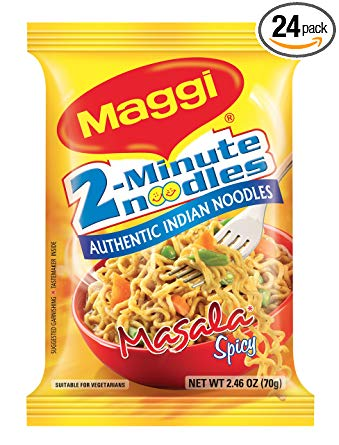maggi: (45, 54, 292, 396)
